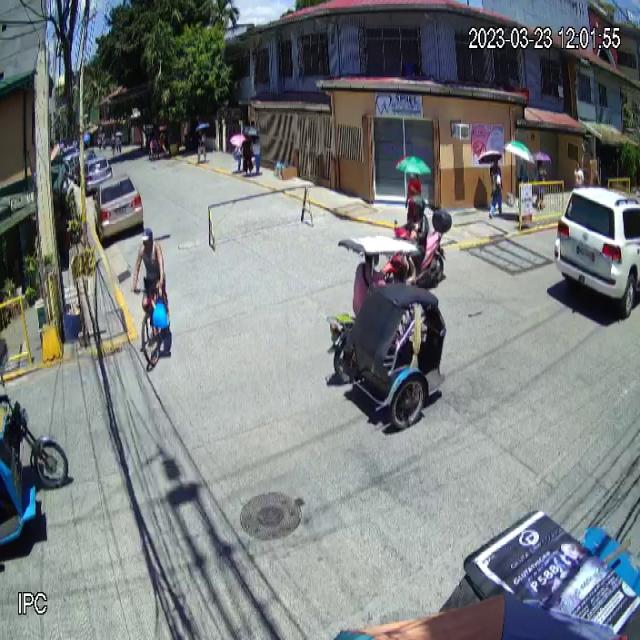Tricycle: (326, 234, 448, 432)
